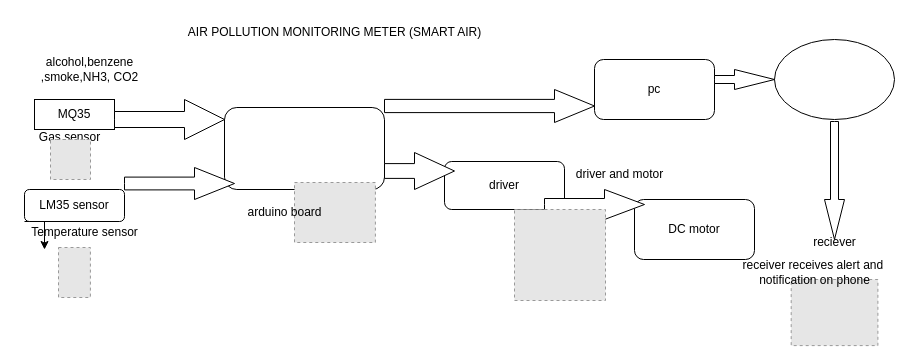
Some shapes in this 917 by 363 pixel diagram are drawn without their labels. Grey dashed boxes stand in for pictures. The centre of each missing label's shape, as x and y in pixels:
cloud: (834,79)
Device to measure concentration of gases: (304,148)
